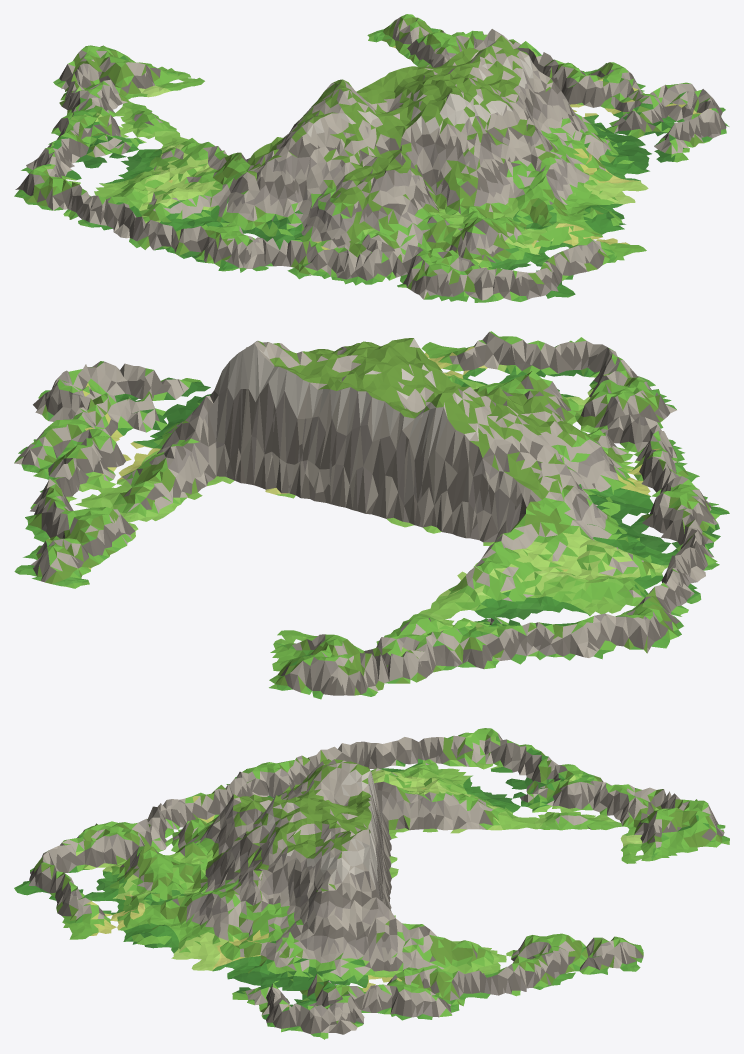
Rendered from Isl-orc5-Relief.fbx.
The picture shows the model from 3 angles, top to bottom: view 1: azimuth 30°, elevation 25°; view 2: azimuth 150°, elevation 25°; view 3: azimuth 270°, elevation 25°; orthographic projection. The views are drawn at different scales.
Parts seen in each view (by area): view 1: Isl-orc5-Relief-c11, Isl-orc5-Relief-c21, Isl-orc5-Relief-c12, Isl-orc5-Relief-c22, Isl-orc5-Relief-c31, Isl-orc5-Relief-c10, Isl-orc5-Relief-c20, Isl-orc5-Relief-c02, Isl-orc5-Relief-c13; view 2: Isl-orc5-Relief-c12, Isl-orc5-Relief-c11, Isl-orc5-Relief-c22, Isl-orc5-Relief-c21, Isl-orc5-Relief-c13, Isl-orc5-Relief-c31, Isl-orc5-Relief-c20, Isl-orc5-Relief-c02, Isl-orc5-Relief-c32, Isl-orc5-Relief-c10; view 3: Isl-orc5-Relief-c21, Isl-orc5-Relief-c12, Isl-orc5-Relief-c11, Isl-orc5-Relief-c22, Isl-orc5-Relief-c31, Isl-orc5-Relief-c32, Isl-orc5-Relief-c13, Isl-orc5-Relief-c20, Isl-orc5-Relief-c10.
Boxes of the visible parts, left/top/right/bottom form: Isl-orc5-Relief-c11: left=113, top=79, right=500, bottom=299; Isl-orc5-Relief-c21: left=367, top=29, right=689, bottom=271; Isl-orc5-Relief-c12: left=21, top=56, right=249, bottom=230; Isl-orc5-Relief-c22: left=367, top=14, right=628, bottom=112; Isl-orc5-Relief-c31: left=629, top=78, right=729, bottom=147; Isl-orc5-Relief-c10: left=439, top=267, right=540, bottom=302; Isl-orc5-Relief-c20: left=535, top=237, right=646, bottom=298; Isl-orc5-Relief-c02: left=14, top=167, right=92, bottom=227; Isl-orc5-Relief-c13: left=53, top=45, right=156, bottom=91; Isl-orc5-Relief-c12: left=270, top=431, right=698, bottom=683; Isl-orc5-Relief-c11: left=396, top=370, right=729, bottom=583; Isl-orc5-Relief-c22: left=14, top=381, right=395, bottom=588; Isl-orc5-Relief-c21: left=83, top=332, right=559, bottom=452; Isl-orc5-Relief-c13: left=269, top=644, right=384, bottom=699; Isl-orc5-Relief-c31: left=33, top=361, right=145, bottom=421; Isl-orc5-Relief-c20: left=425, top=331, right=593, bottom=376; Isl-orc5-Relief-c02: left=624, top=593, right=701, bottom=653; Isl-orc5-Relief-c32: left=14, top=408, right=82, bottom=472; Isl-orc5-Relief-c10: left=583, top=344, right=671, bottom=402; Isl-orc5-Relief-c21: left=75, top=795, right=378, bottom=1005; Isl-orc5-Relief-c12: left=375, top=732, right=677, bottom=878; Isl-orc5-Relief-c11: left=75, top=741, right=378, bottom=878; Isl-orc5-Relief-c22: left=374, top=819, right=643, bottom=1006; Isl-orc5-Relief-c31: left=259, top=984, right=376, bottom=1039; Isl-orc5-Relief-c32: left=376, top=984, right=459, bottom=1020; Isl-orc5-Relief-c13: left=674, top=795, right=729, bottom=852; Isl-orc5-Relief-c20: left=14, top=861, right=78, bottom=939; Isl-orc5-Relief-c10: left=30, top=836, right=78, bottom=876.
Size of the model in its own units: 103 by 18.12 by 105.
